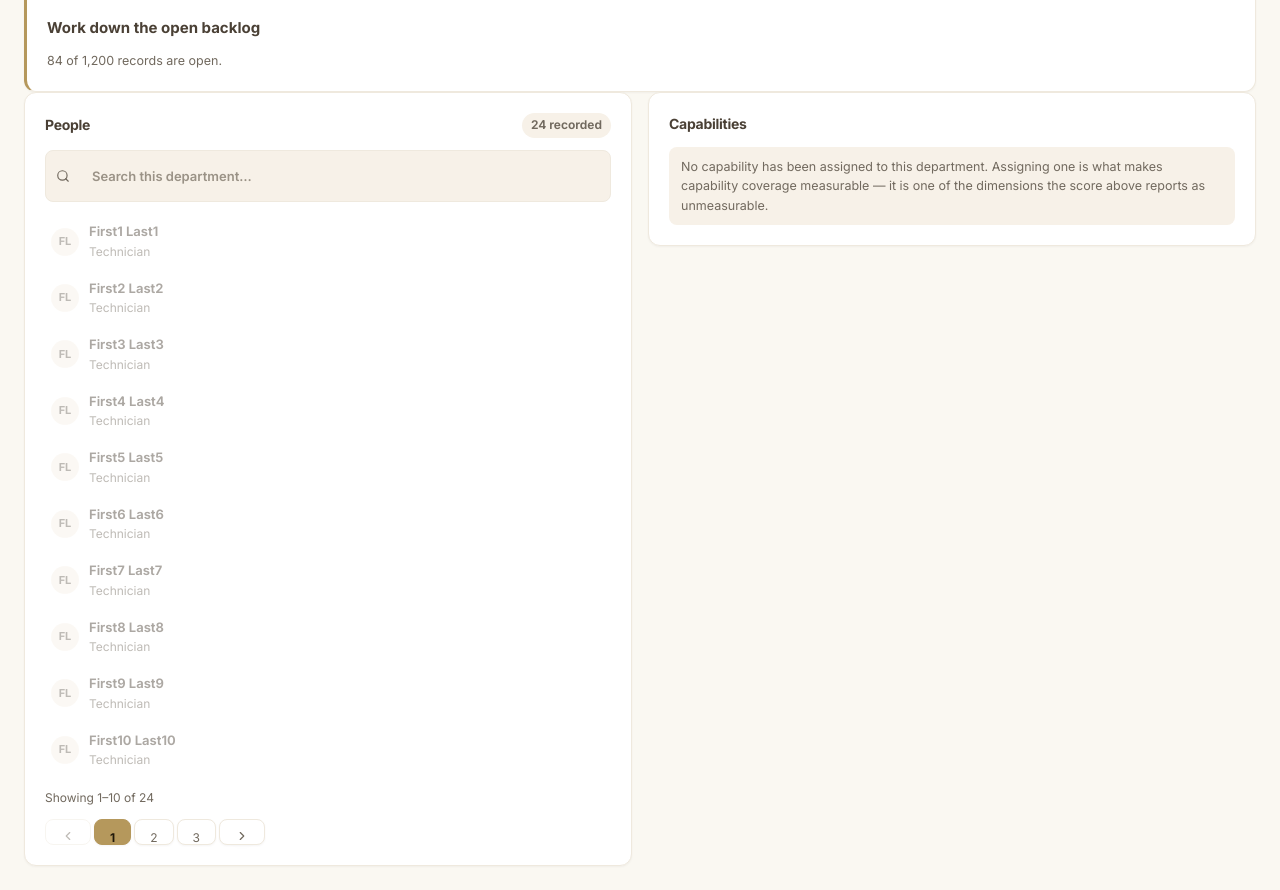
the roster pages on the server › fetches the next page instead of slicing one it already holds
This screenshot has width=1280, height=890.
(page scrolled)
Expected: the text "First1 Last1" is shown, [89,221,158,242]
Click the button named "Next". click: {"x": 242, "y": 832}
box: [219,819,265,845]
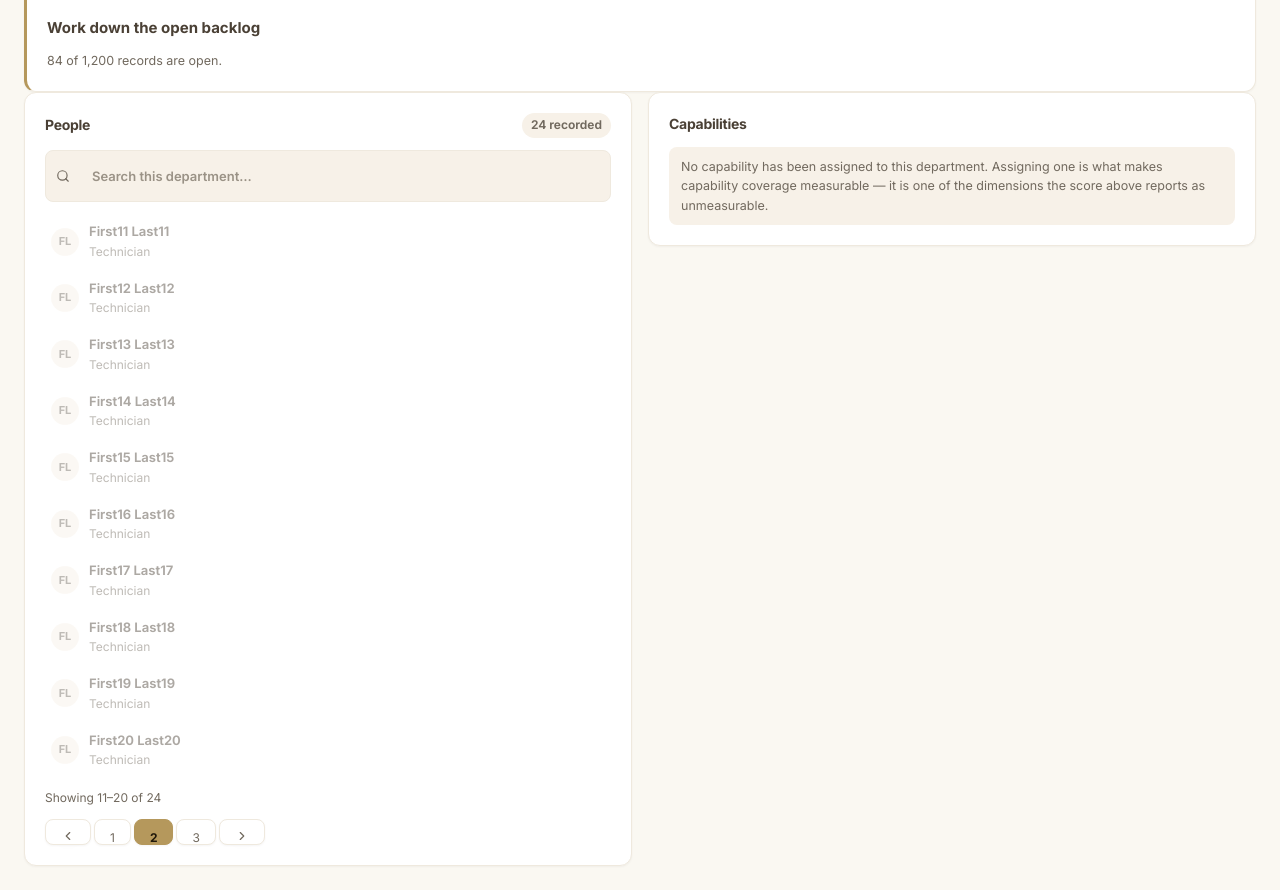
Now the text "First11 Last11" is shown, box [89,221,169,242]
Now the button "First1 Last1" is gone
